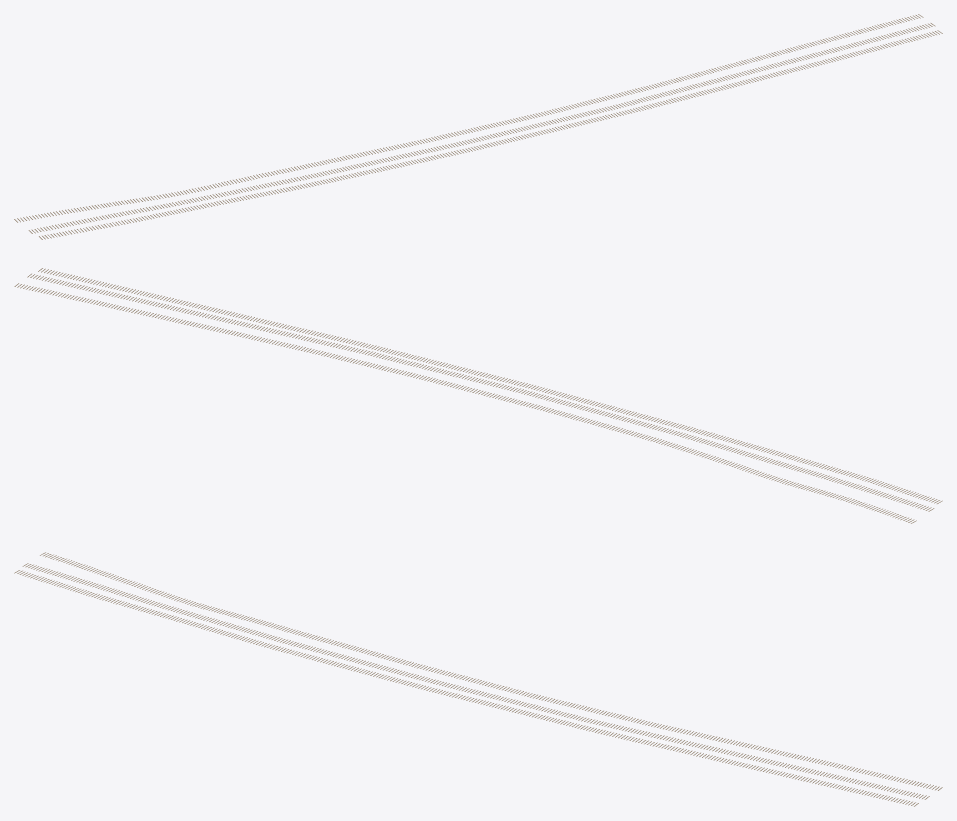
File: c_1623_17822_rail_sleeper.glb
The picture shows the model from 3 angles, top to bottom: view 1: azimuth 30°, elevation 25°; view 2: azimuth 150°, elevation 25°; view 3: azimuth 330°, elevation 25°; orthographic projection. The views are drawn at different scales.
Visible parts, largest first — view 1: geometry_0; view 2: geometry_0; view 3: geometry_0.
Boxes of the visible parts, x1=… form: geometry_0: x1=14, y1=14, x2=942, y2=239; geometry_0: x1=14, y1=268, x2=942, y2=523; geometry_0: x1=14, y1=552, x2=942, y2=806.
Size of the model in its own units: 256 by 0.7726 by 23.4.
